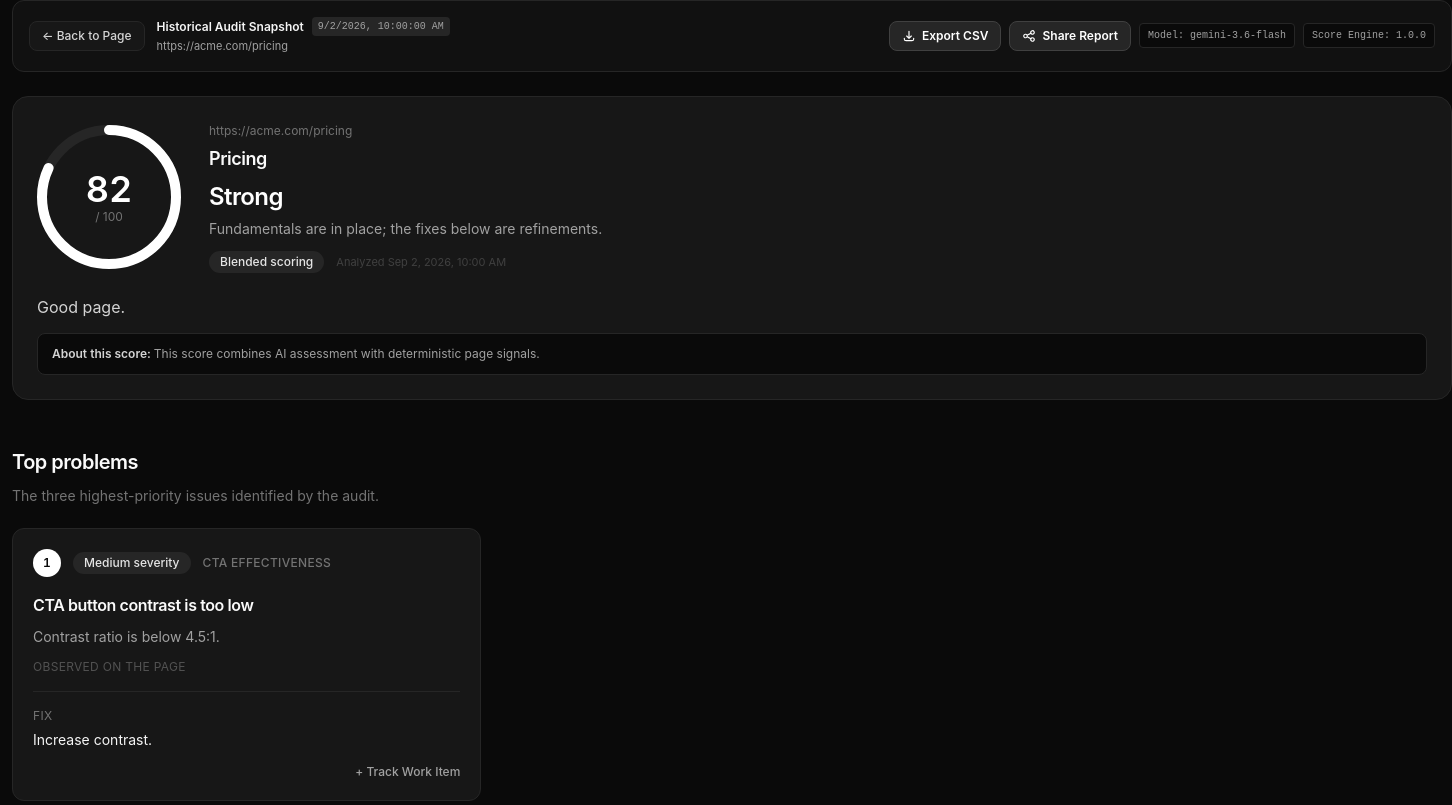
Test: CSV Export UI Components › HistoricalReportView CSV Export › displays error banner when audit report export fails
Click the button "Export CSV". click: click(945, 36)
box: 889,21 -> 1002,51
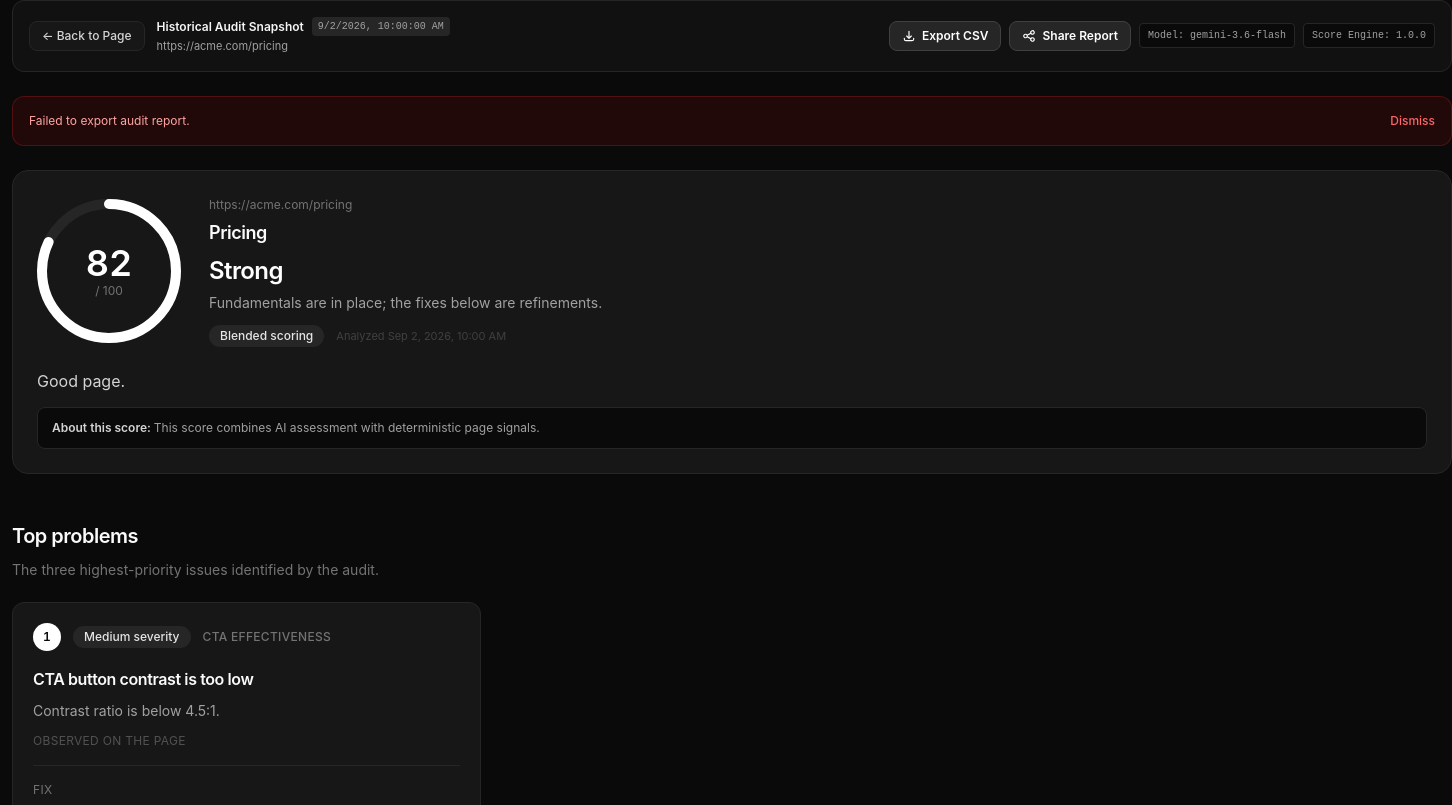
Expected: the message "Failed to export audit report. Dismiss" is shown, 12,96 -> 1451,146
Expected: the text "Failed to export audit report." is shown, 29,112 -> 190,128
